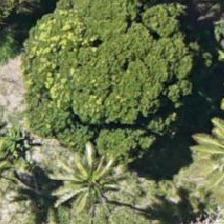coconut_tree: (63, 14, 153, 104), (47, 133, 137, 223), (0, 116, 50, 206)
